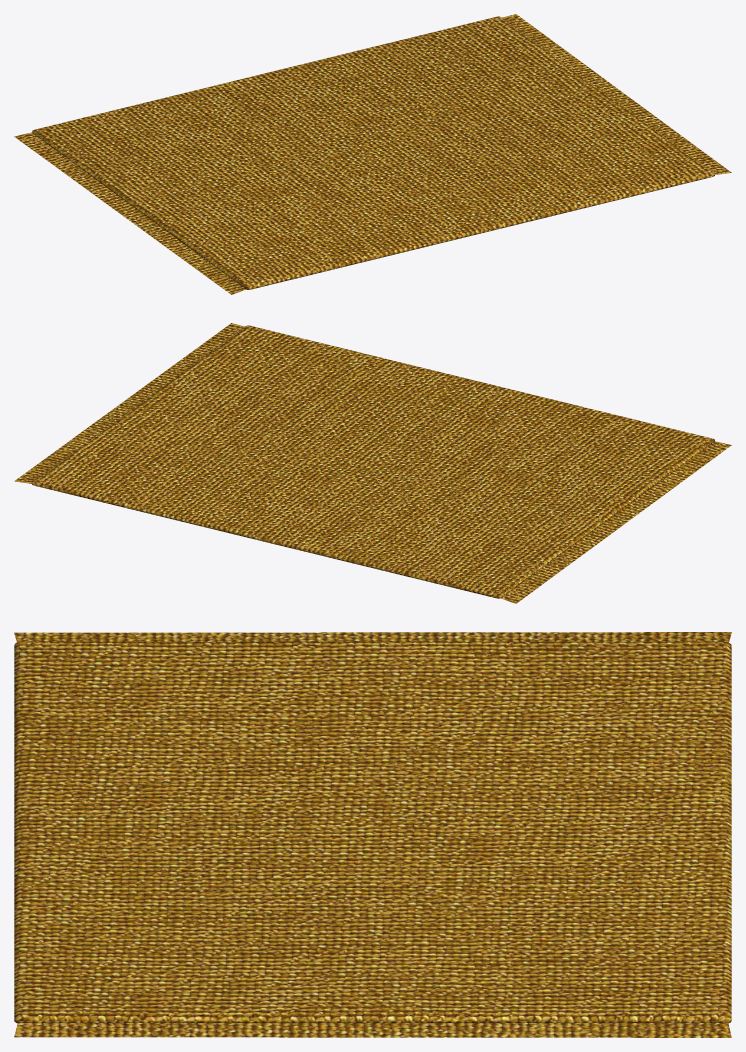
File: Carpet2.fbx
The picture shows the model from 3 angles, top to bottom: view 1: azimuth 30°, elevation 25°; view 2: azimuth 150°, elevation 25°; view 3: azimuth 270°, elevation 25°; orthographic projection. The views are drawn at different scales.
Visible parts, largest first — view 1: Rug 005; view 2: Rug 005; view 3: Rug 005.
Part boxes in pixels (x1,y1,x2,y2): Rug 005: (14,14,731,294); Rug 005: (14,323,731,603); Rug 005: (14,632,731,1037).
Size of the model in its own units: 267 by 1.91 by 200.
